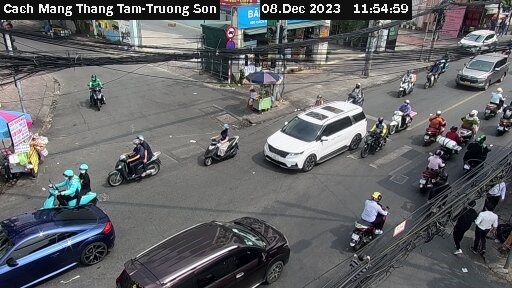car: (115, 208, 295, 288), (1, 190, 106, 288), (267, 94, 367, 163), (458, 50, 512, 91), (451, 23, 501, 53)
motorbike: (93, 137, 172, 187), (351, 189, 397, 255), (36, 165, 99, 205), (416, 145, 457, 195), (196, 127, 254, 160), (73, 76, 122, 110), (364, 121, 397, 166), (386, 99, 420, 135), (391, 66, 425, 101), (334, 79, 372, 109), (476, 89, 509, 117), (454, 107, 478, 142), (420, 61, 447, 88), (426, 108, 447, 141)
